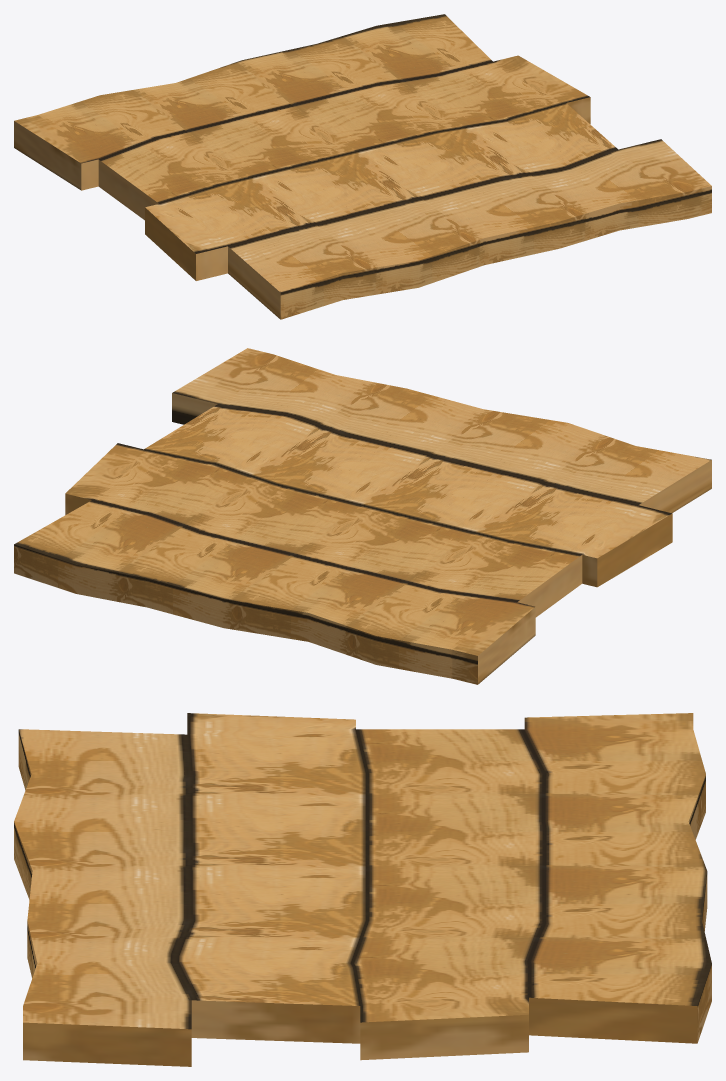
Rendered from floatPlatform.fbx.
The picture shows the model from 3 angles, top to bottom: view 1: azimuth 30°, elevation 25°; view 2: azimuth 150°, elevation 25°; view 3: azimuth 270°, elevation 25°; orthographic projection. The views are drawn at different scales.
Parts seen in each view (by area): view 1: pCube101; view 2: pCube101; view 3: pCube101.
Part boxes in pixels (x1=…): pCube101: x1=14, y1=14, x2=711, y2=319; pCube101: x1=14, y1=348, x2=711, y2=684; pCube101: x1=14, y1=713, x2=711, y2=1066.
Size of the model in its own units: 1.78 by 0.0991 by 1.66.
